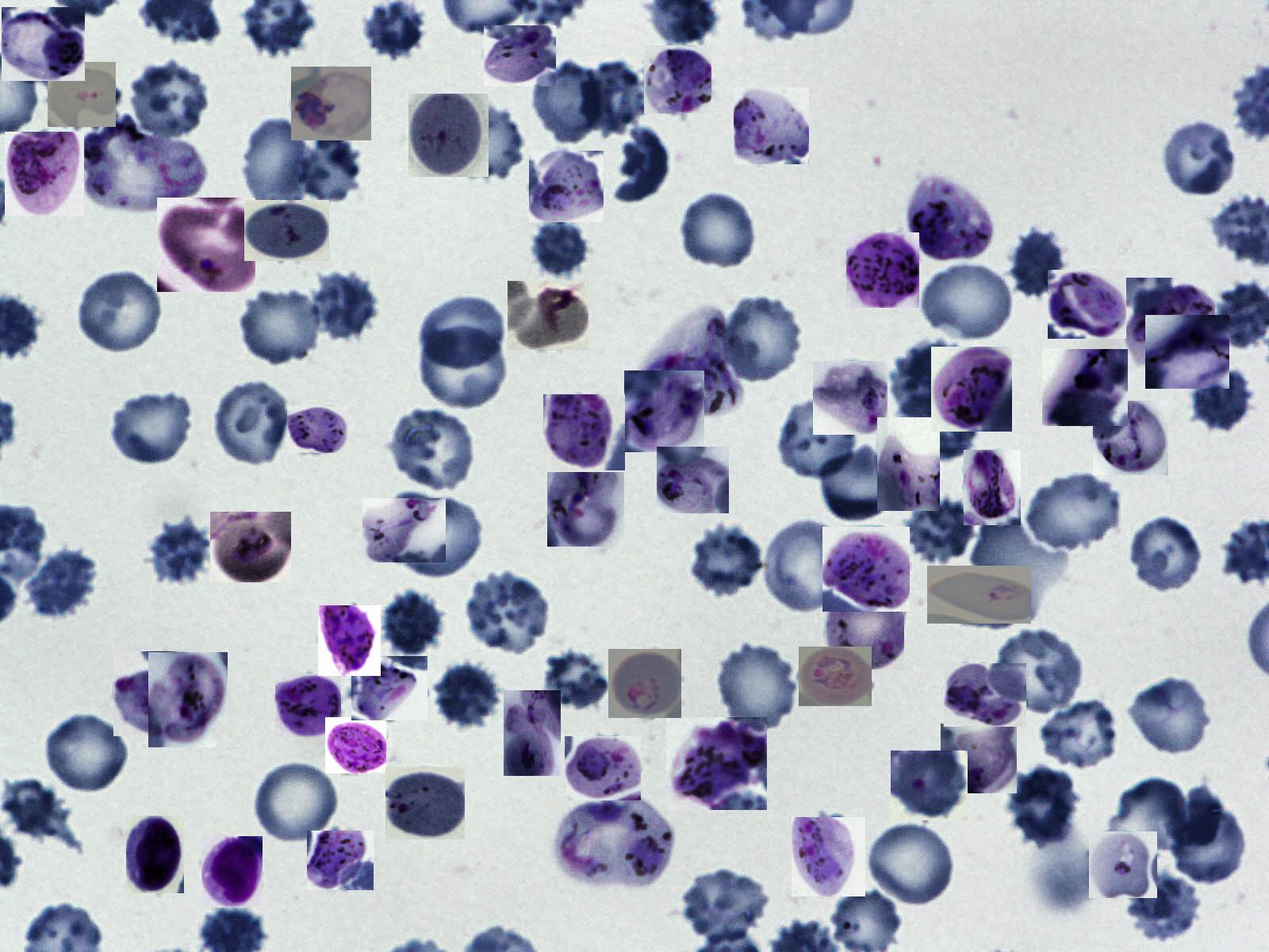Infected: (638, 302, 750, 413), (79, 115, 205, 210), (554, 800, 674, 889), (666, 718, 767, 811), (157, 198, 255, 292), (1125, 278, 1215, 369), (905, 174, 994, 262), (148, 652, 228, 747), (822, 527, 910, 612), (825, 581, 904, 670), (113, 651, 195, 736), (931, 347, 1012, 432), (408, 94, 489, 177), (5, 132, 84, 216), (1042, 349, 1128, 426), (624, 370, 704, 452), (543, 394, 625, 470), (1145, 315, 1229, 389), (2, 7, 85, 81), (927, 566, 1031, 624), (877, 417, 940, 511), (291, 67, 371, 140), (547, 472, 624, 547), (734, 87, 809, 164), (792, 817, 865, 896), (385, 767, 465, 839), (210, 512, 291, 582), (1093, 401, 1168, 475), (813, 361, 888, 435), (846, 232, 919, 308), (508, 281, 588, 350), (891, 750, 968, 820), (1048, 270, 1126, 339), (529, 151, 604, 222), (363, 498, 446, 562), (944, 663, 1026, 727), (941, 724, 1017, 793), (244, 200, 329, 261), (608, 649, 681, 718), (504, 690, 561, 776), (565, 737, 641, 801), (351, 656, 427, 720), (658, 447, 730, 513), (644, 45, 711, 113), (1089, 831, 1157, 898), (318, 605, 381, 676), (126, 816, 184, 893), (201, 836, 263, 908), (48, 62, 116, 127), (484, 25, 556, 86), (799, 647, 872, 706), (964, 450, 1021, 525), (275, 674, 341, 737), (307, 831, 374, 890), (325, 717, 386, 774), (288, 406, 349, 453)
Uninfected: (991, 624, 1085, 718), (762, 520, 852, 616), (1025, 467, 1123, 554), (73, 265, 167, 355), (385, 405, 479, 493), (417, 322, 509, 411), (918, 259, 1016, 341), (868, 820, 959, 908), (715, 640, 800, 734), (251, 758, 342, 845), (393, 494, 486, 578), (718, 292, 804, 382), (211, 378, 294, 470), (240, 117, 316, 217), (463, 570, 552, 655), (122, 56, 210, 141), (1125, 672, 1214, 756), (43, 711, 133, 794), (677, 866, 773, 942), (774, 397, 860, 481), (108, 385, 196, 465), (888, 338, 972, 419), (420, 294, 505, 371), (1034, 697, 1123, 770), (893, 390, 982, 463), (676, 193, 757, 273), (1006, 765, 1085, 846), (1158, 115, 1234, 199), (688, 520, 768, 599), (1128, 514, 1205, 593), (1116, 779, 1190, 861), (0, 777, 81, 850), (241, 289, 318, 365), (534, 61, 604, 144), (1122, 871, 1203, 942), (17, 549, 99, 619), (818, 447, 897, 518), (431, 658, 504, 732), (1170, 809, 1242, 883), (451, 106, 523, 180), (378, 586, 450, 658), (305, 268, 378, 339), (584, 59, 649, 135), (906, 498, 976, 566), (144, 516, 214, 582), (300, 133, 362, 203), (1188, 367, 1253, 432), (615, 126, 670, 202), (1010, 228, 1068, 298), (362, 0, 426, 61), (528, 217, 592, 278), (545, 651, 608, 712)
